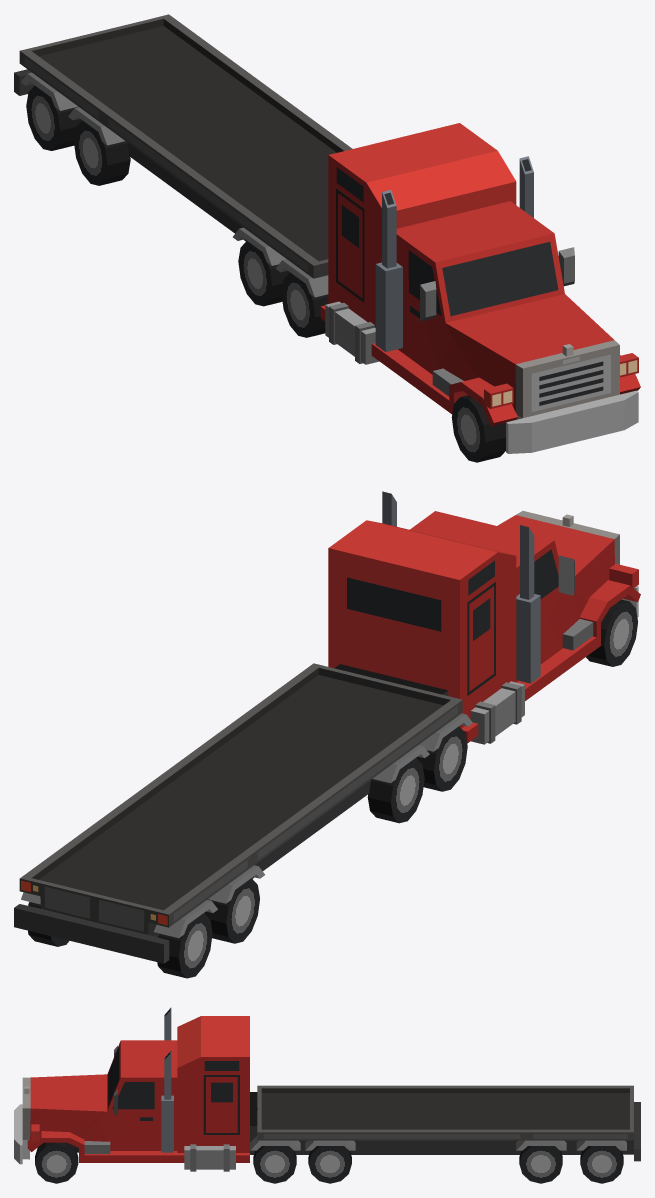
The model's file is SM_Veh_Freight_01_red02.obj.
The picture shows the model from 3 angles, top to bottom: view 1: azimuth 30°, elevation 25°; view 2: azimuth 150°, elevation 25°; view 3: azimuth 270°, elevation 25°; orthographic projection. The views are drawn at different scales.
Visible parts, largest first — view 1: SM_Veh_BigRig_01:Mesh; view 2: SM_Veh_BigRig_01:Mesh; view 3: SM_Veh_BigRig_01:Mesh.
Part boxes in pixels (box(x1,y1,x2,y2)): SM_Veh_BigRig_01:Mesh: box(14, 14, 640, 462); SM_Veh_BigRig_01:Mesh: box(14, 491, 640, 978); SM_Veh_BigRig_01:Mesh: box(14, 1007, 640, 1183).
Bounding box in the file's own units: 3.78 × 4.52 × 19.78.
Materials: 1 (1 with a texture image).
